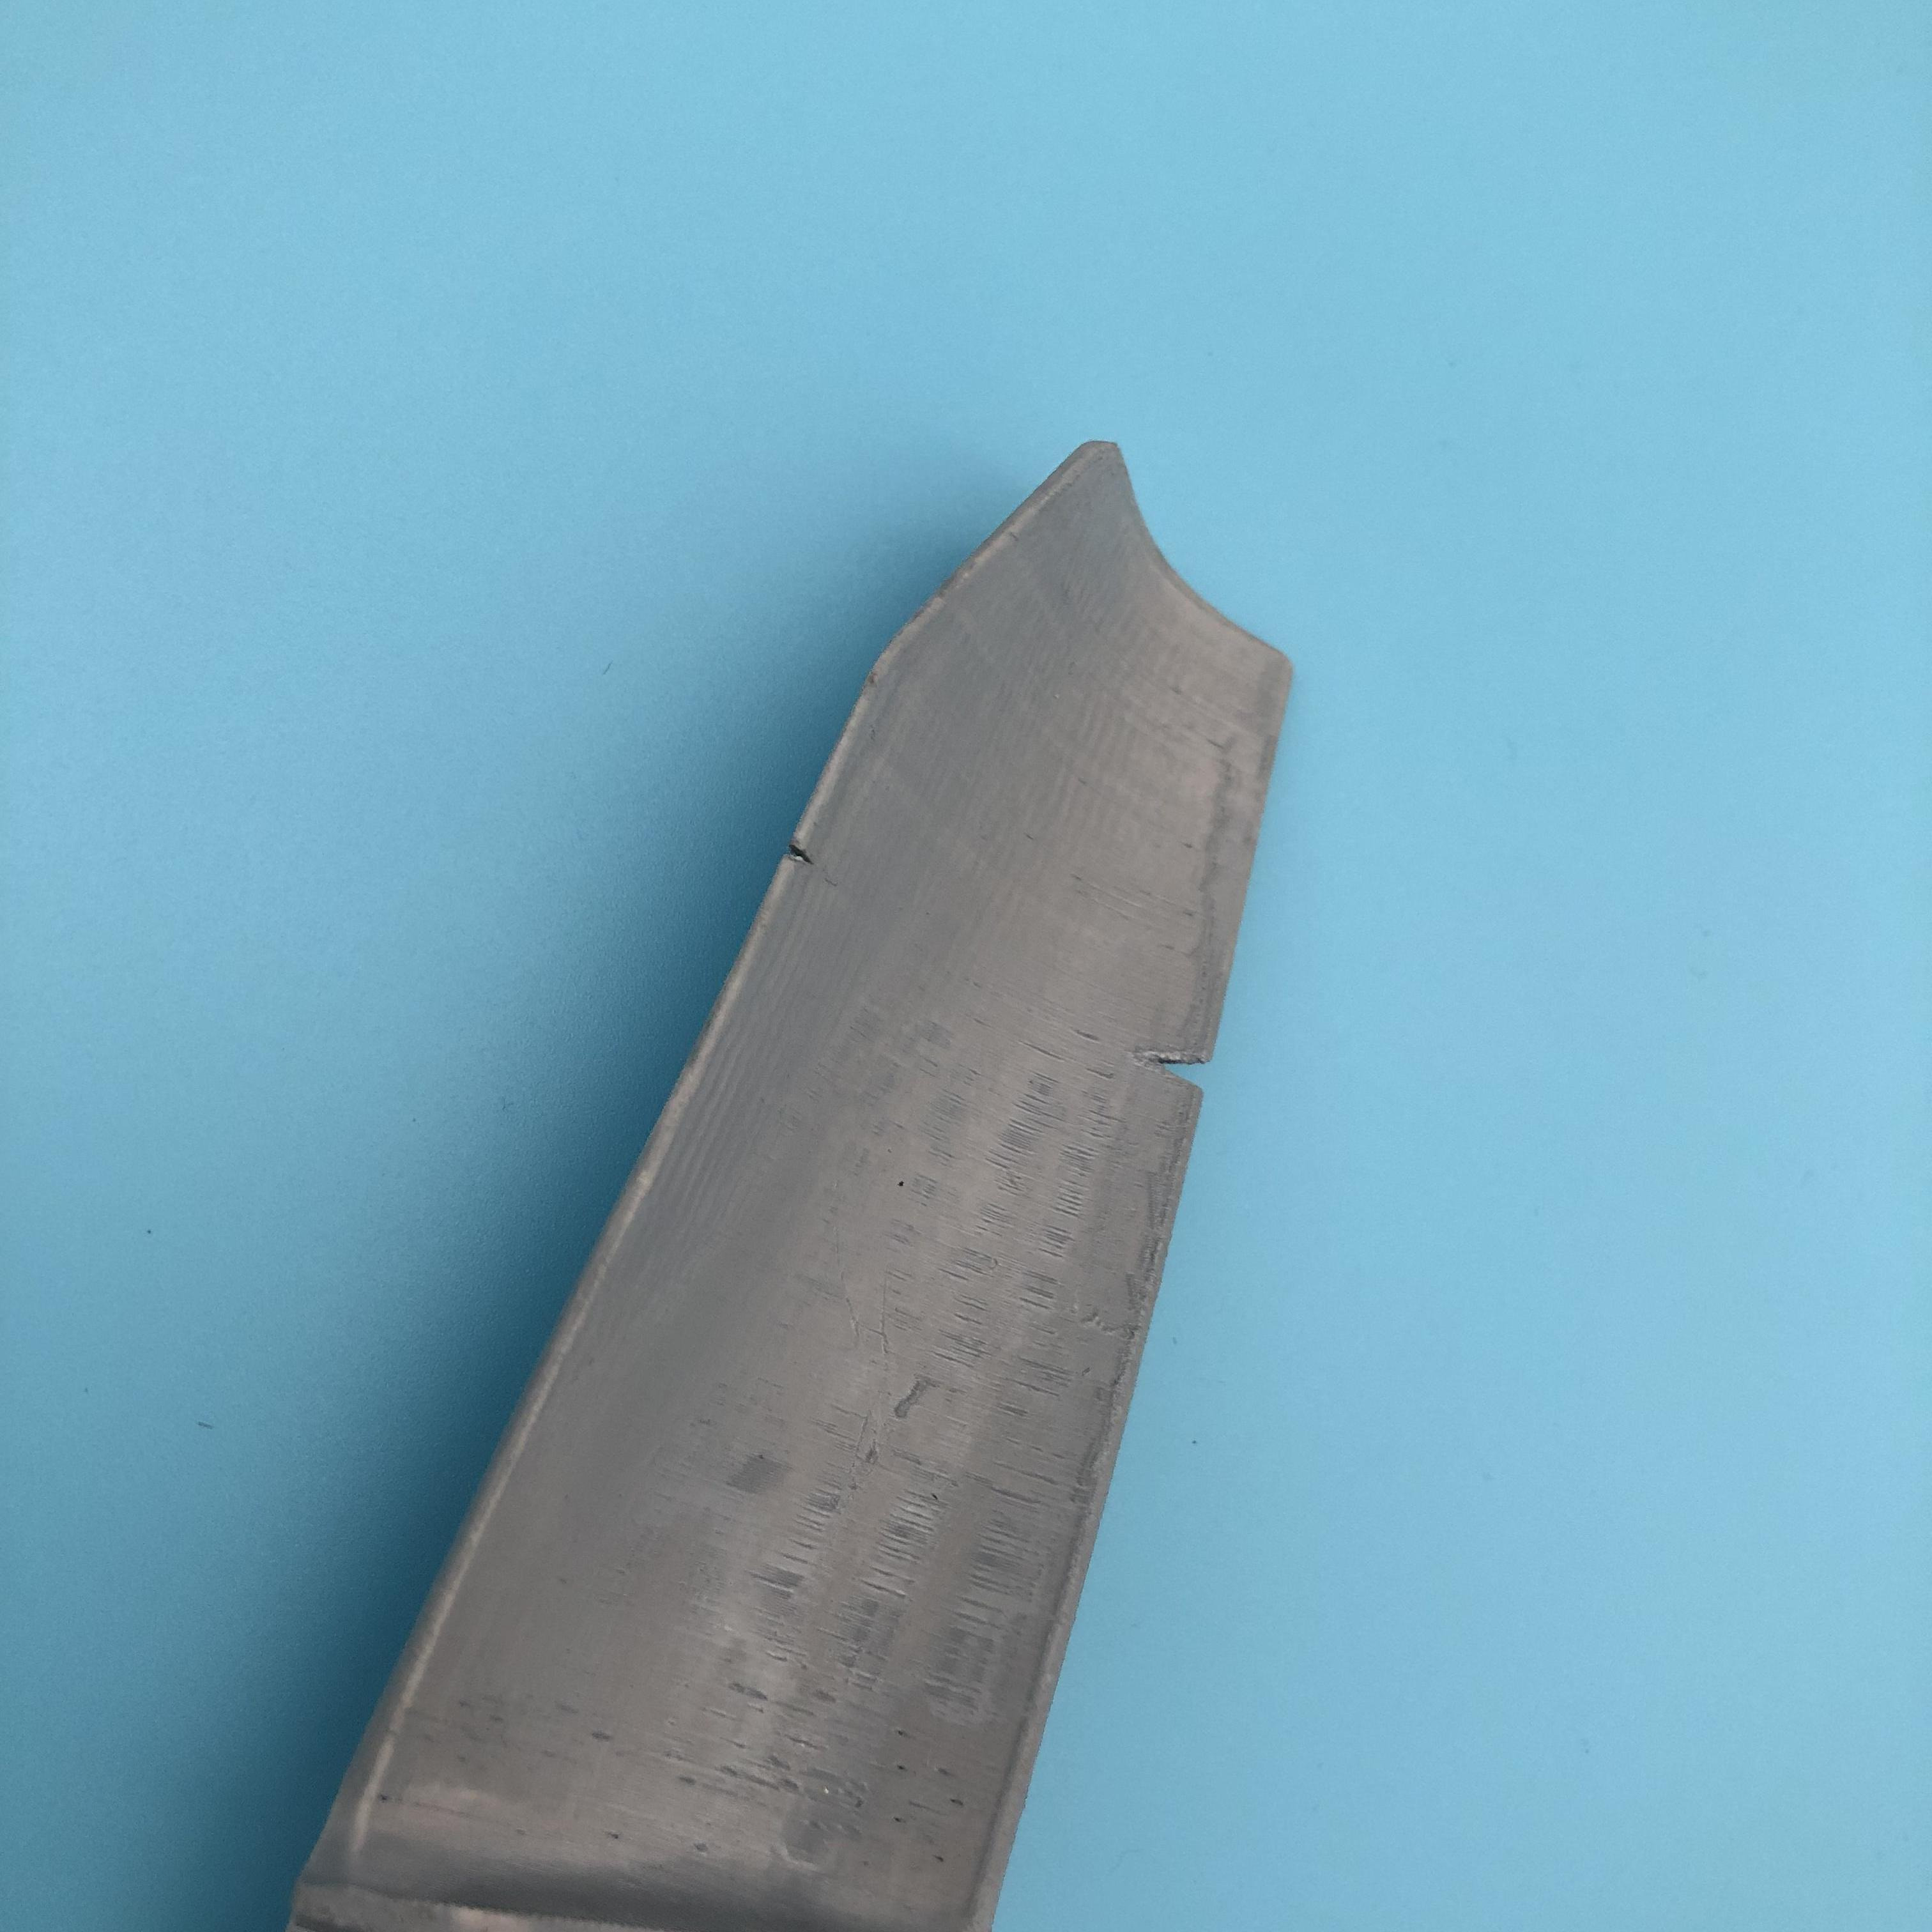groove: (1141, 1030, 1217, 1115), (777, 832, 826, 886)
